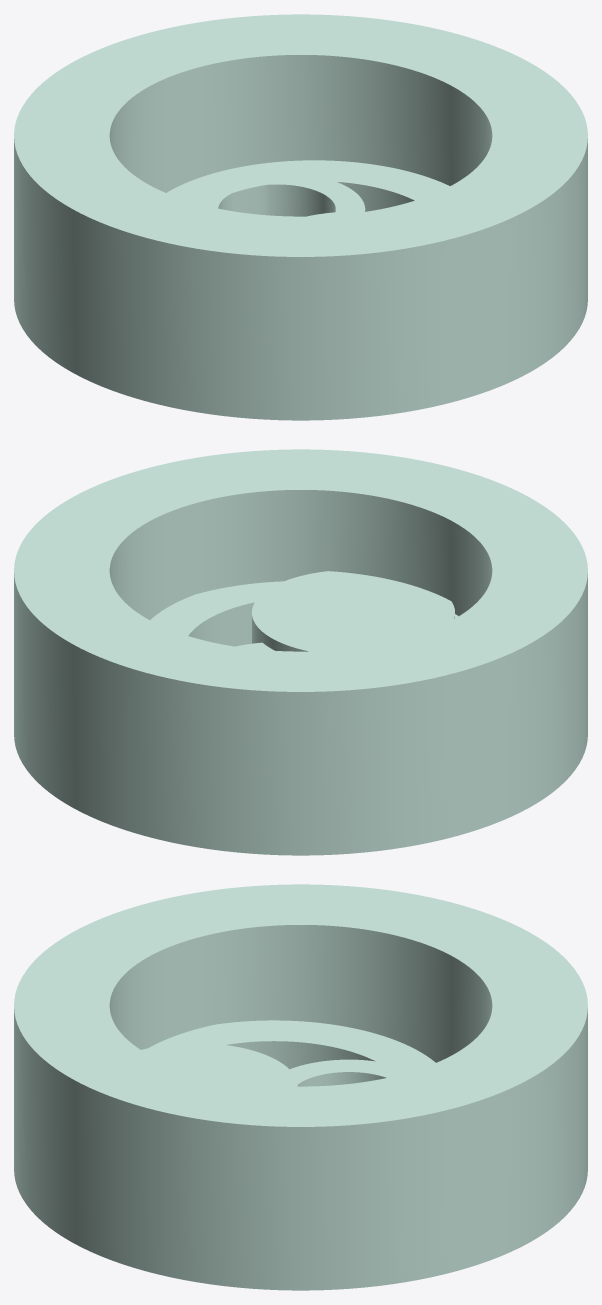
The picture shows the model from 3 angles, top to bottom: view 1: azimuth 30°, elevation 25°; view 2: azimuth 150°, elevation 25°; view 3: azimuth 270°, elevation 25°; orthographic projection.
Visible parts, largest first — view 1: Renderer Node; view 2: Renderer Node; view 3: Renderer Node.
Boxes of the visible parts, x1,y1,x2,y2 form: Renderer Node: [14, 14, 587, 420]; Renderer Node: [14, 449, 587, 855]; Renderer Node: [14, 884, 587, 1290].
Bounding box in the file's own units: 1.52 × 0.4766 × 1.52.
